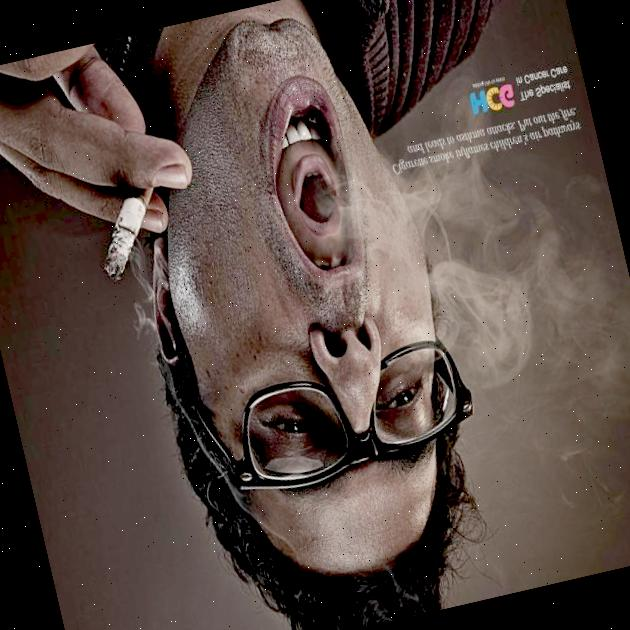smoke: (399, 158, 594, 379)
